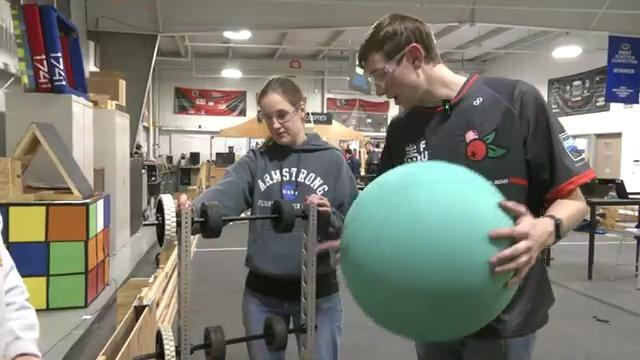ALGAE: (337, 158, 521, 343)
